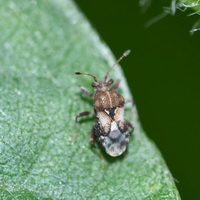insect: (75, 50, 133, 156)
